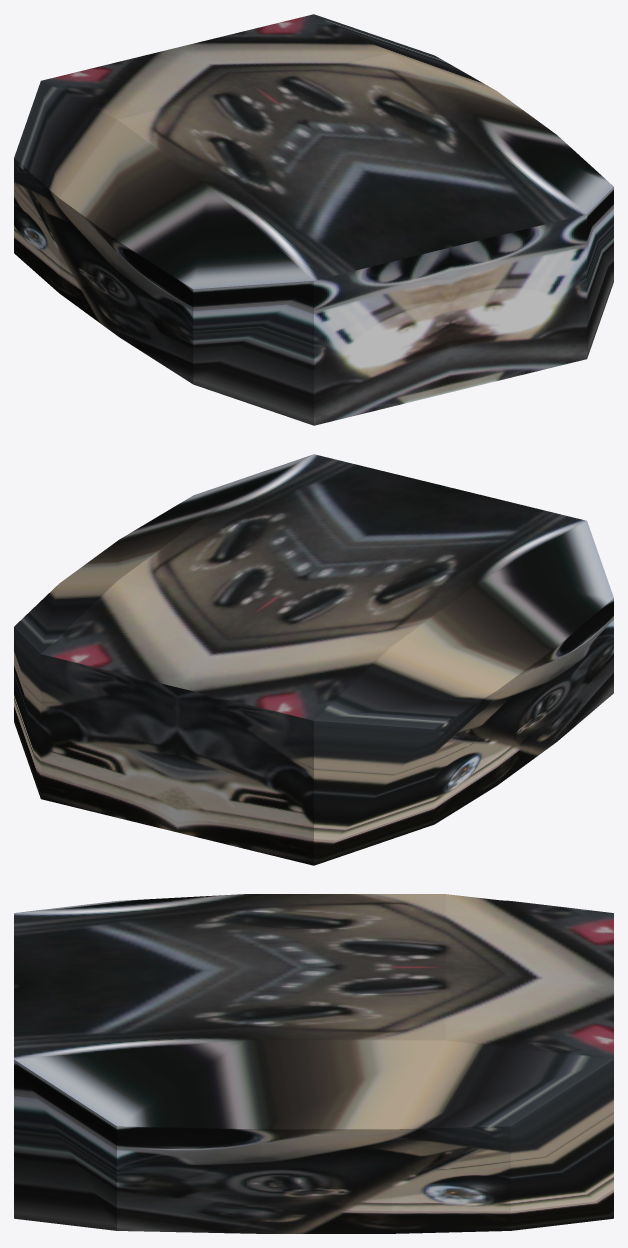
3 views of the same model, one above another, from view 1: azimuth 30°, elevation 25°; view 2: azimuth 150°, elevation 25°; view 3: azimuth 270°, elevation 25° (orthographic). The views are drawn at different scales.
Visible parts, largest first — view 1: Body-1.002_Cube.023; view 2: Body-1.002_Cube.023; view 3: Body-1.002_Cube.023.
Part boxes in pixels (x1=…): Body-1.002_Cube.023: x1=14, y1=14, x2=613, y2=425; Body-1.002_Cube.023: x1=14, y1=454, x2=613, y2=865; Body-1.002_Cube.023: x1=14, y1=894, x2=613, y2=1233.
Bounding box in the file's own units: 11.29 × 4.26 × 12.19.
